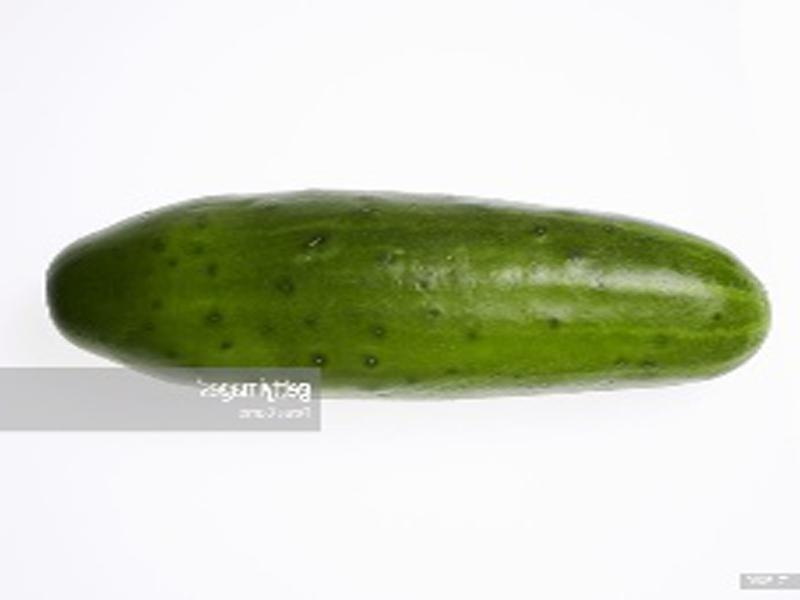Cucumber: (38, 188, 774, 399)
